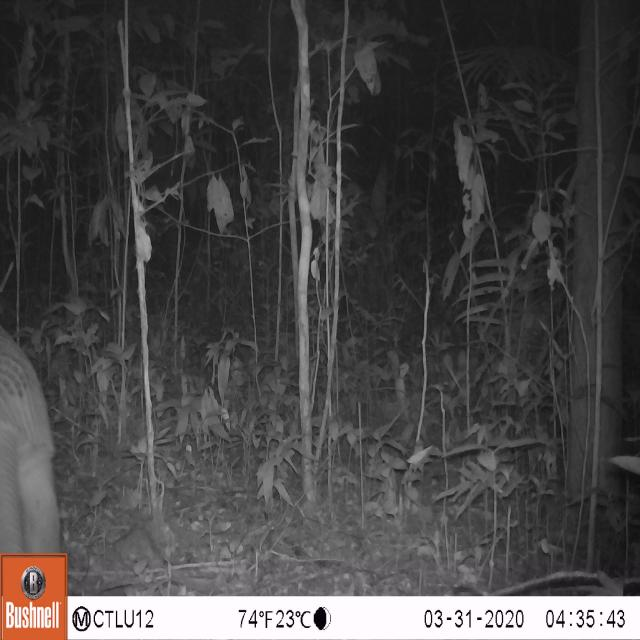Armadillo: (0, 292, 74, 558)
